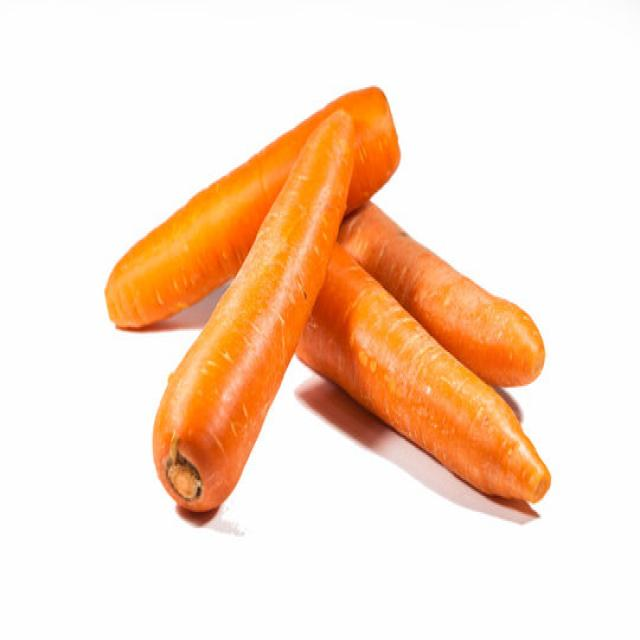Carrot: (150, 105, 357, 514), (103, 84, 401, 330), (294, 238, 551, 505), (338, 199, 545, 388)
